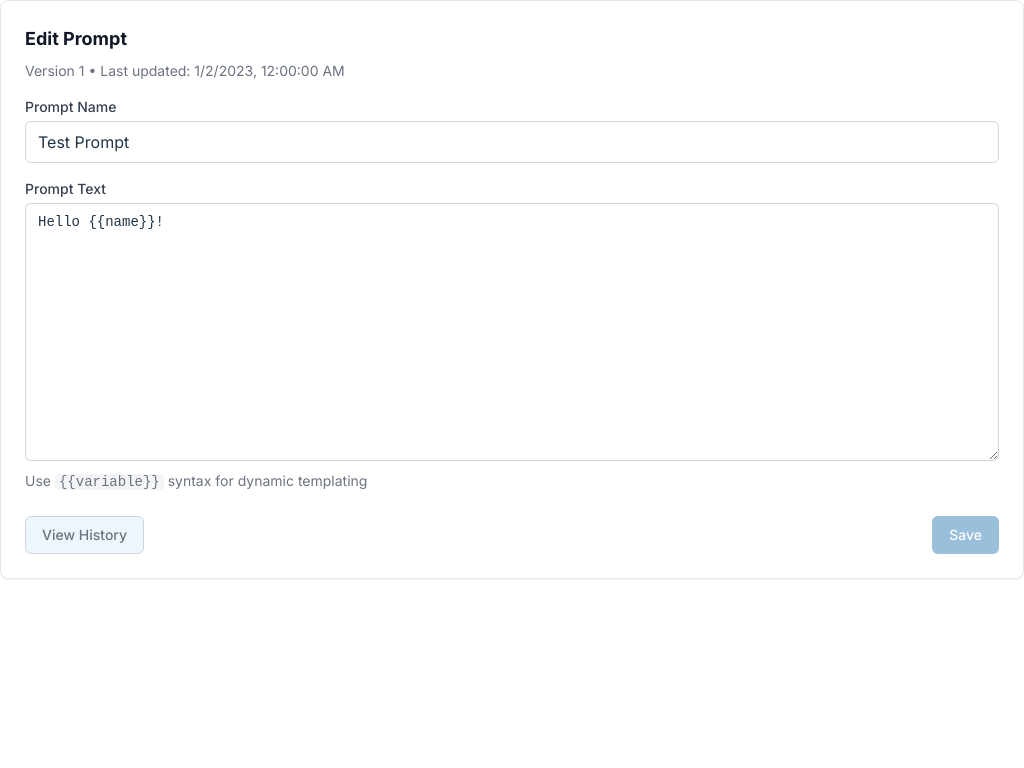
Scenario: PromptEditor › disables form fields and buttons while loading
Replace the text in the field labelled "Prompt Name" with "Updated Prompt" at [512, 142], box left=25, top=121, right=999, bottom=163
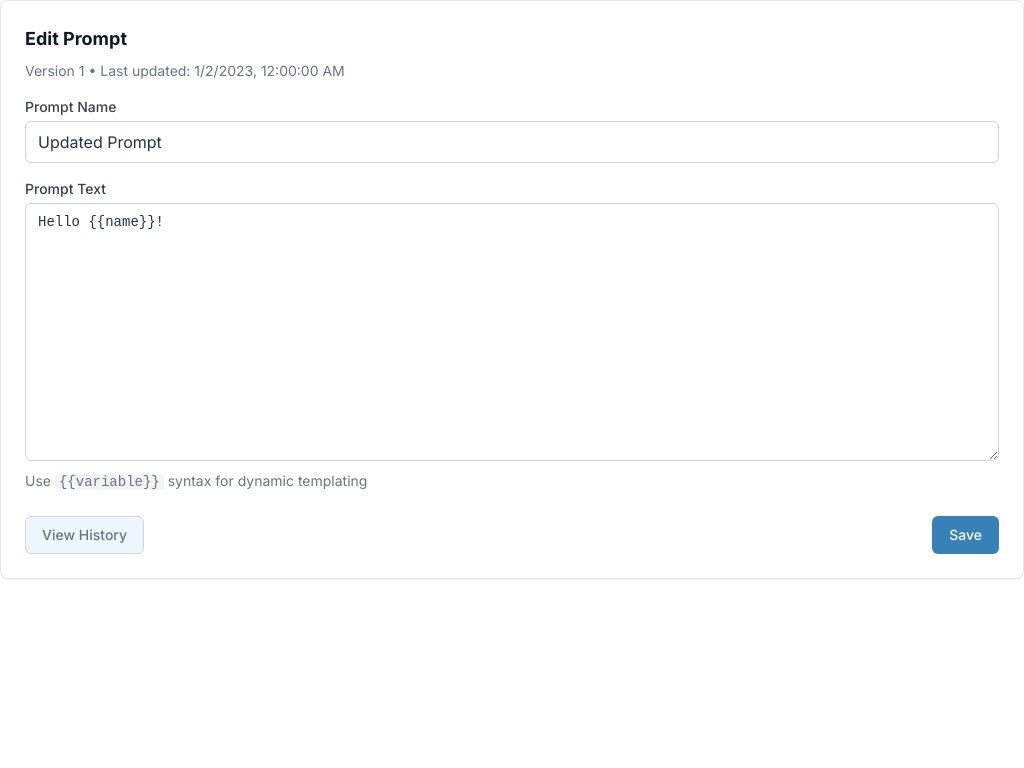
Click the button "Save" at [966, 535], box left=932, top=516, right=999, bottom=554
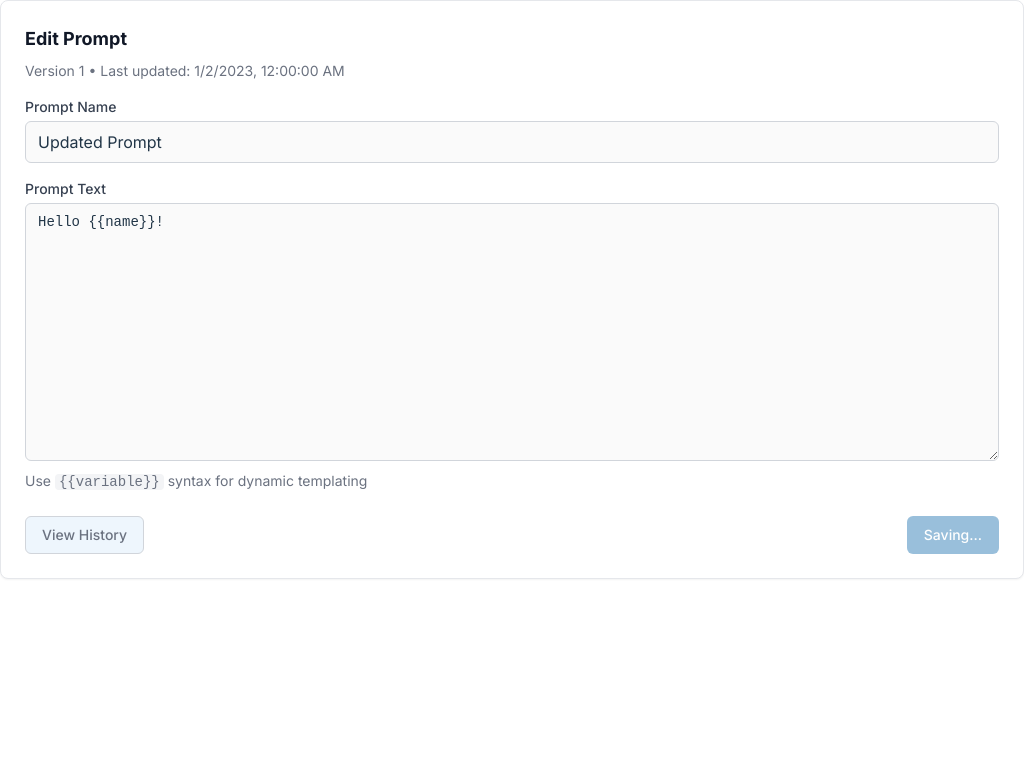
Check: the field labelled "Prompt Name" is disabled, box left=25, top=121, right=999, bottom=163
Check: the button "Saving..." is shown, box left=907, top=516, right=999, bottom=554
